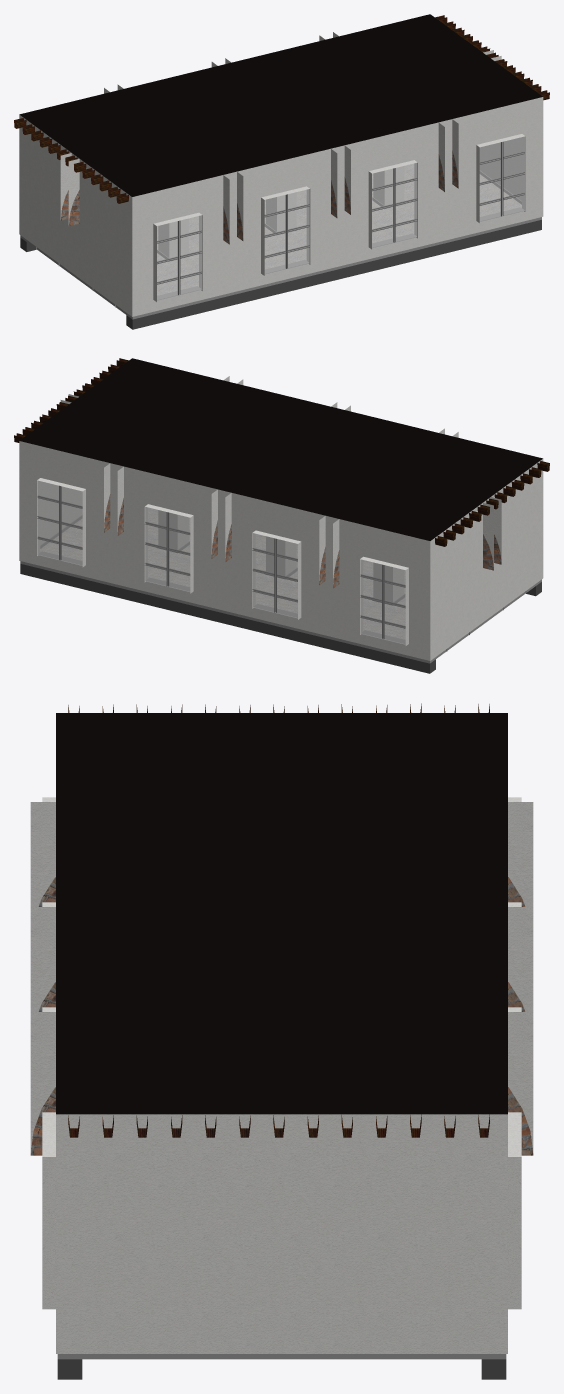
The picture shows the model from 3 angles, top to bottom: view 1: azimuth 30°, elevation 25°; view 2: azimuth 150°, elevation 25°; view 3: azimuth 270°, elevation 25°; orthographic projection. The views are drawn at different scales.
Parts seen in each view (by area): view 1: ShowCase_Gallery; view 2: ShowCase_Gallery; view 3: ShowCase_Gallery.
Boxes of the visible parts, x1,y1,x2,y2 form: ShowCase_Gallery: (14,14,549,329); ShowCase_Gallery: (14,358,549,673); ShowCase_Gallery: (30,703,533,1379).
Size of the model in its own units: 1106 by 325 by 556.
Materials: 7 (4 with a texture image).
